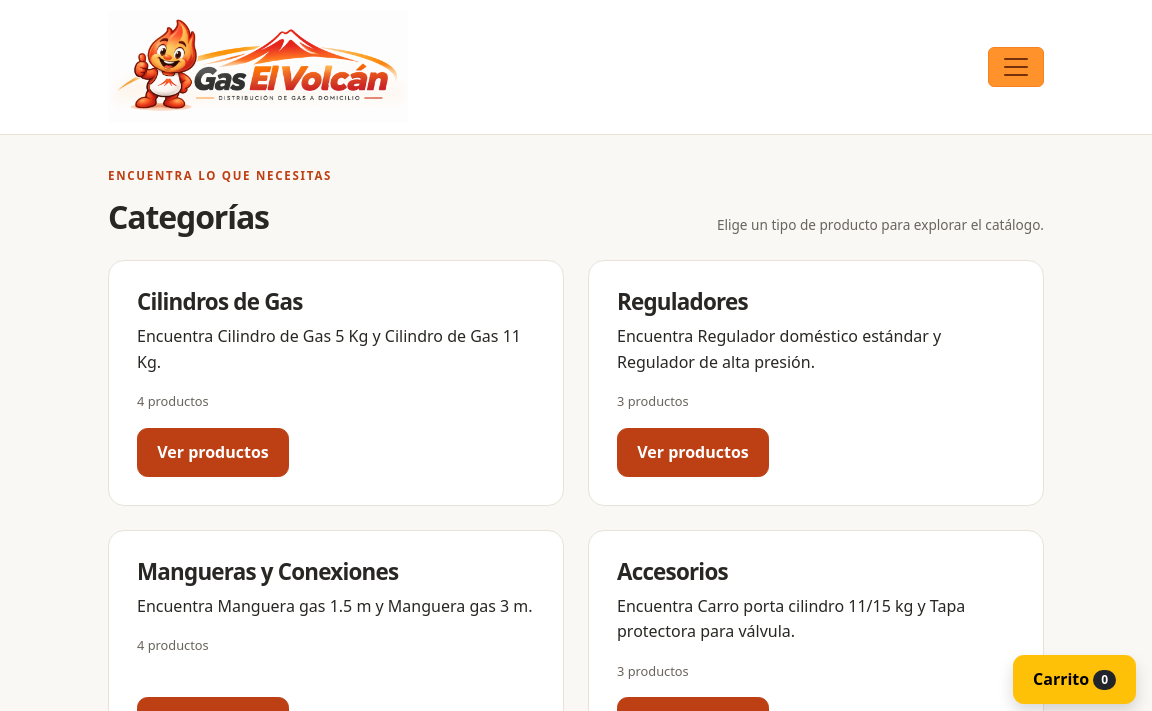
Test: filtra por categoría y búsqueda en página categorías
Click the link with aria-label "Ver productos de Reguladores" at (693, 452), box x1=617 y1=428 x2=769 y2=477
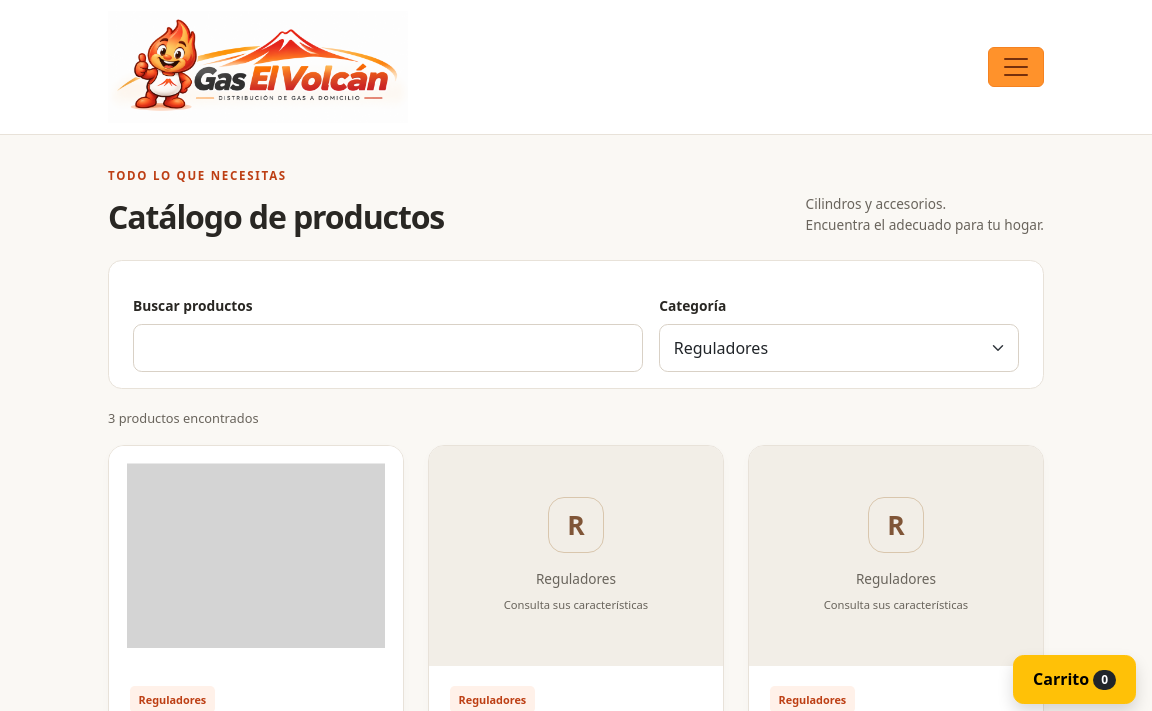
Check: the dropdown shows "Reguladores", box x1=659 y1=324 x2=1019 y2=372
Type "inexistente" into the search field labelled "Buscar productos" at (388, 348), box x1=133 y1=324 x2=643 y2=372
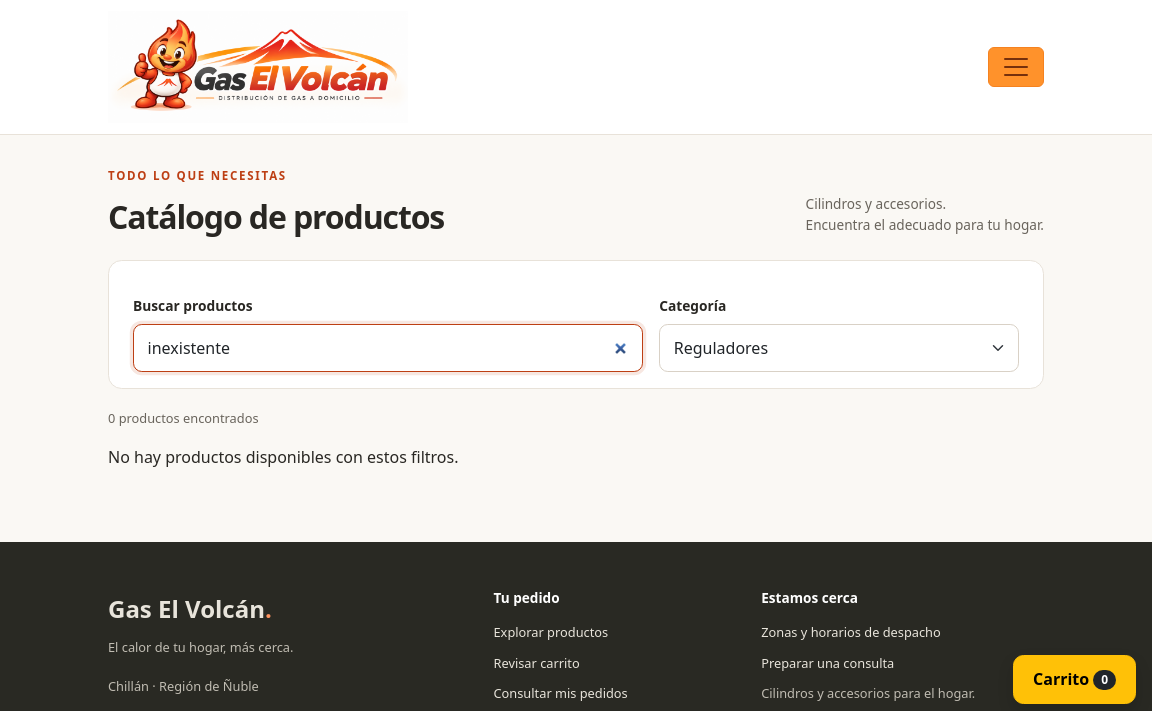
Check: the text "No hay productos disponibles con estos filtros." is shown, box x1=108 y1=446 x2=458 y2=468
